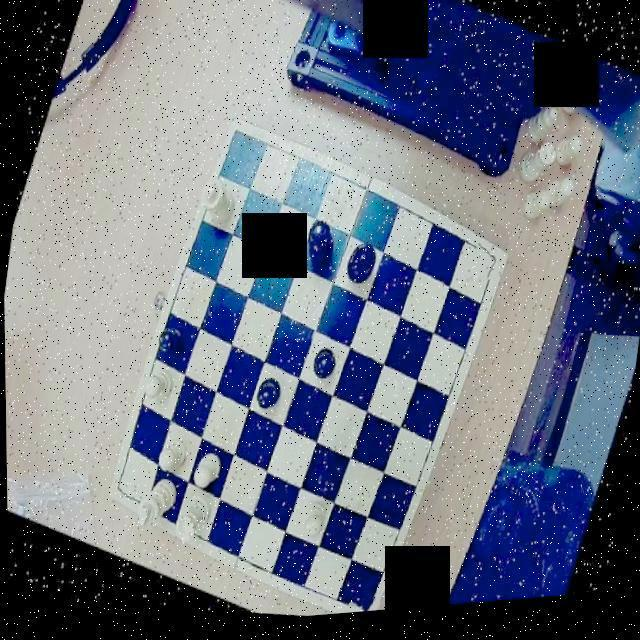chess-table-corners: (466, 246, 508, 294), (222, 124, 260, 164), (106, 472, 138, 509), (344, 589, 382, 618)
